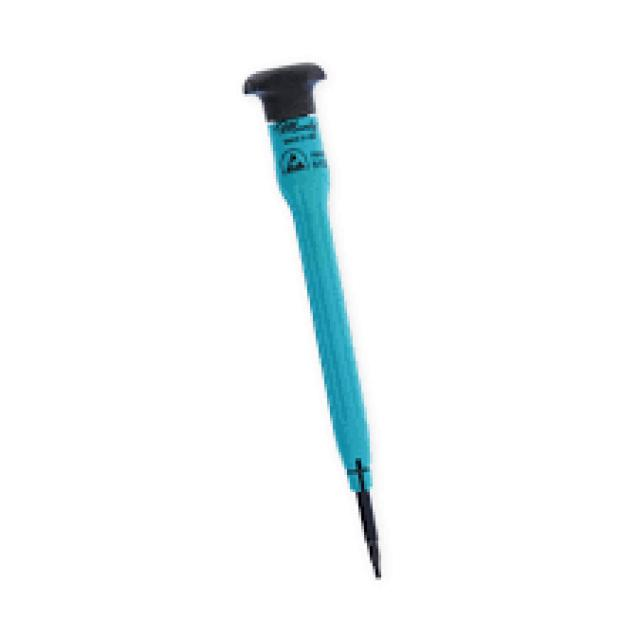screw driver: (219, 20, 438, 612)
